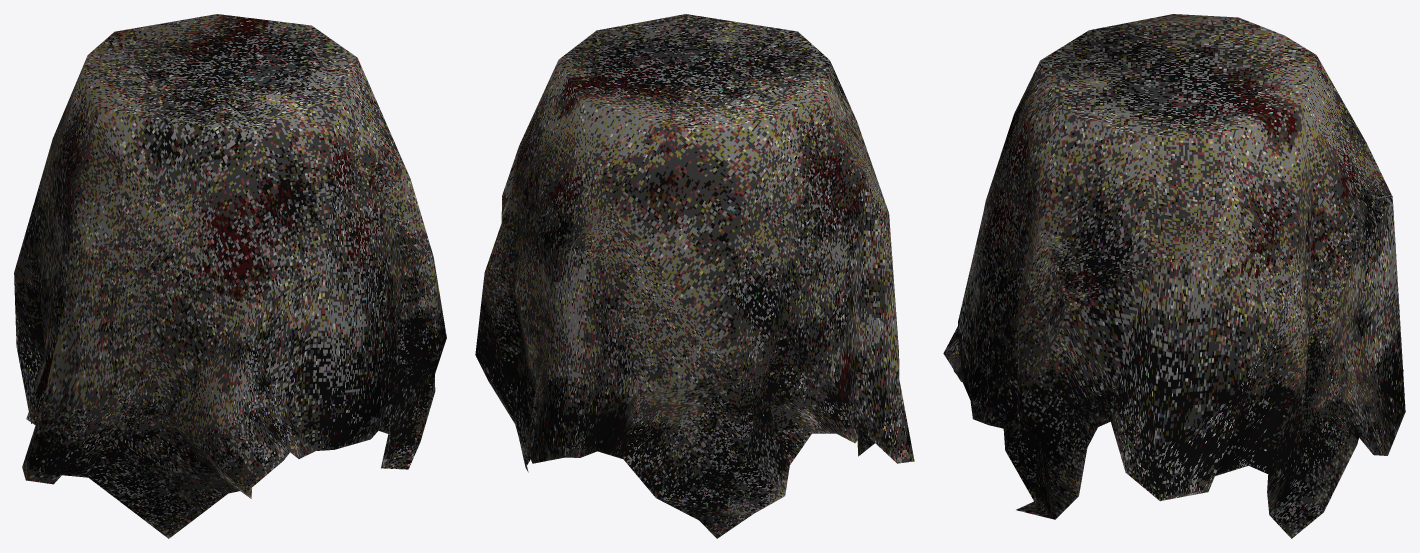
Rendered from Sheet_BarrelTopper.fbx.
The picture shows the model from 3 angles, left to right: view 1: azimuth 30°, elevation 25°; view 2: azimuth 150°, elevation 25°; view 3: azimuth 270°, elevation 25°; orthographic projection. The views are drawn at different scales.
Visible parts, largest first — view 1: Sheet_Barrel_LOW; view 2: Sheet_Barrel_LOW; view 3: Sheet_Barrel_LOW.
Part boxes in pixels (<box>): Sheet_Barrel_LOW: <box>14,14,446,538</box>; Sheet_Barrel_LOW: <box>475,14,914,538</box>; Sheet_Barrel_LOW: <box>943,14,1405,538</box>.
Bounding box in the file's own units: 99.73 × 97.14 × 97.3.
1 material, 1 textured.
